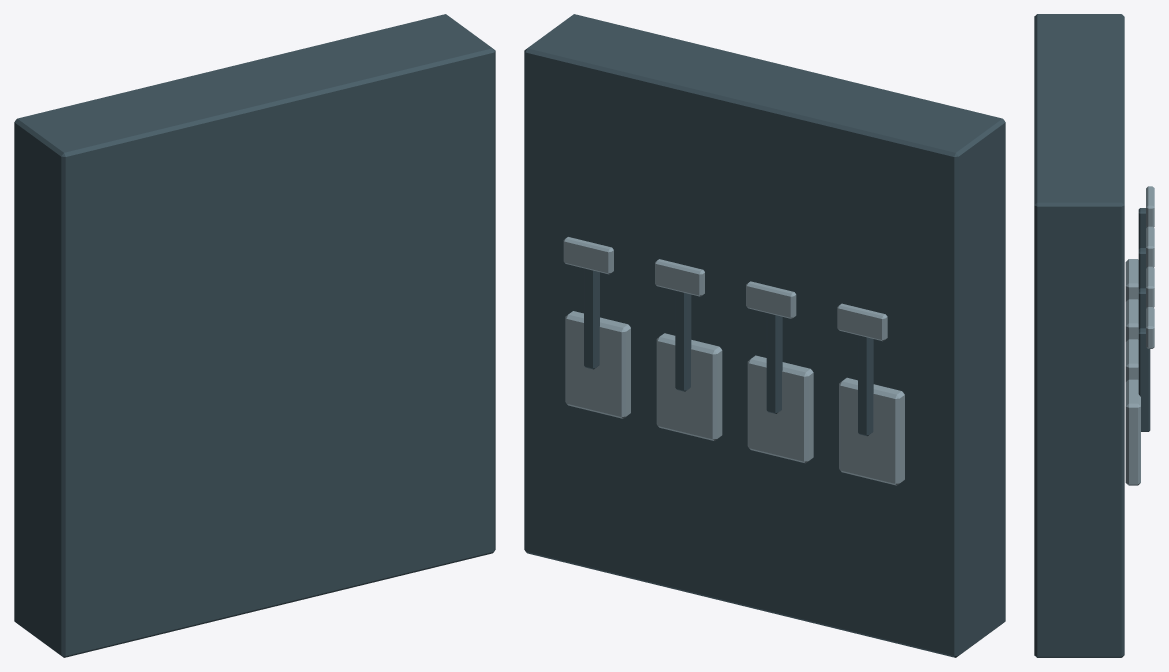
Rendered from leviers_fer.glb.
3 views of the same model, side by side, from view 1: azimuth 30°, elevation 25°; view 2: azimuth 150°, elevation 25°; view 3: azimuth 270°, elevation 25° (orthographic). The views are drawn at different scales.
Parts seen in each view (by area): view 1: leviers_fer; view 2: leviers_fer; view 3: leviers_fer.
Boxes of the visible parts, box(x1,y1,x2,y2) form: leviers_fer: box(14, 14, 495, 657); leviers_fer: box(524, 14, 1005, 657); leviers_fer: box(1034, 14, 1154, 657).
Bounding box in the file's own units: 1.35 × 1.5 × 0.36.
Materials: 1 (1 with a texture image).
